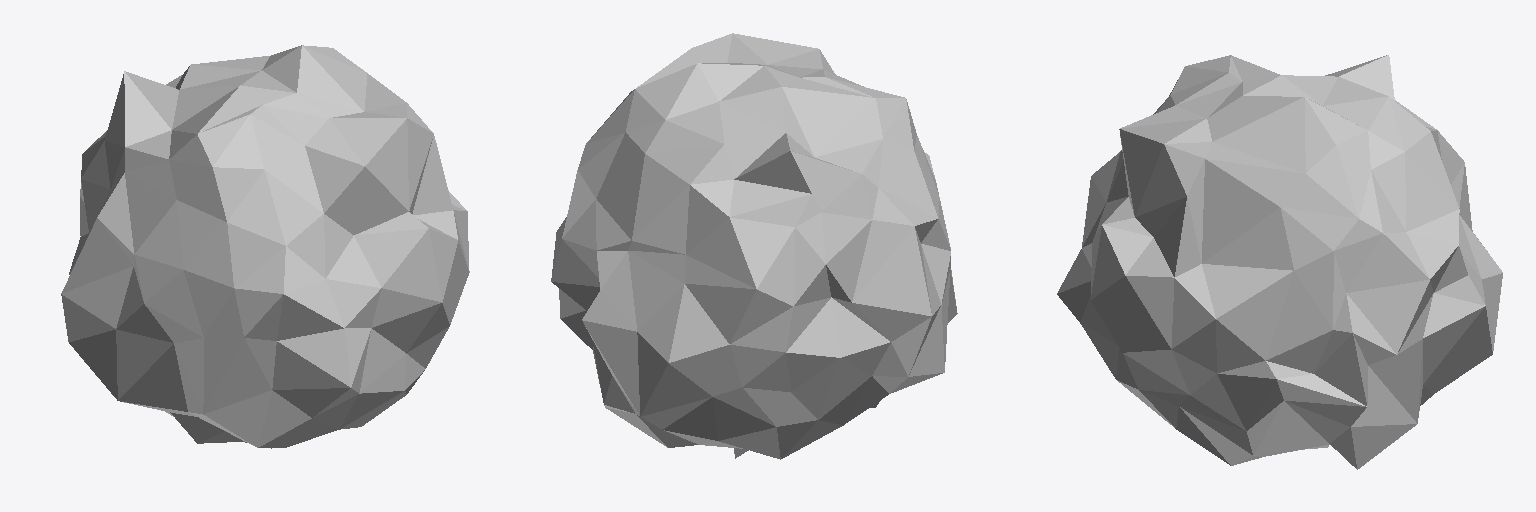
File: fire_000002.obj
3 views of the same model, side by side, from view 1: azimuth 30°, elevation 25°; view 2: azimuth 150°, elevation 25°; view 3: azimuth 270°, elevation 25° (orthographic).
Parts seen in each view (by area): view 1: Icosphere; view 2: Icosphere; view 3: Icosphere.
Boxes of the visible parts, x1,y1,x2,y2 form: Icosphere: [61, 45, 469, 448]; Icosphere: [551, 33, 957, 459]; Icosphere: [1057, 55, 1502, 469].
Size of the model in its own units: 1.56 by 1.56 by 1.68.